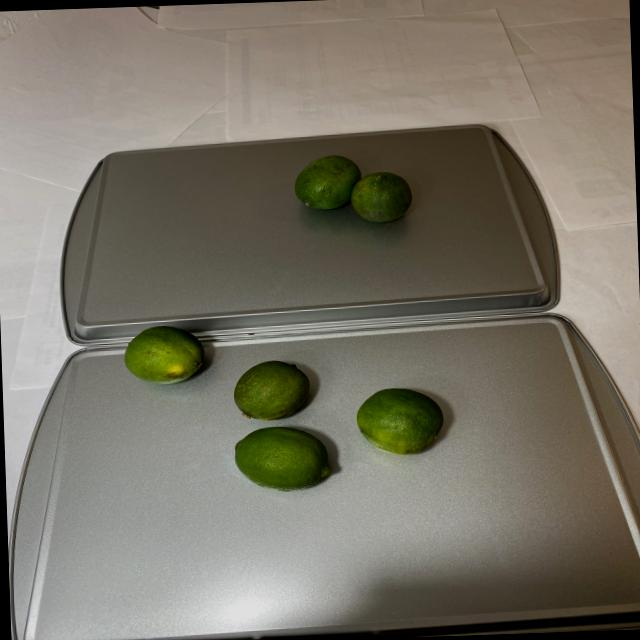lemon: (122, 313, 450, 510), (292, 150, 408, 227)
